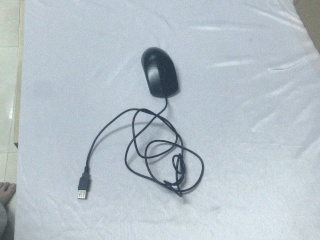box: (292, 1, 320, 66)
mouse: (140, 46, 182, 98), (77, 167, 92, 200)
